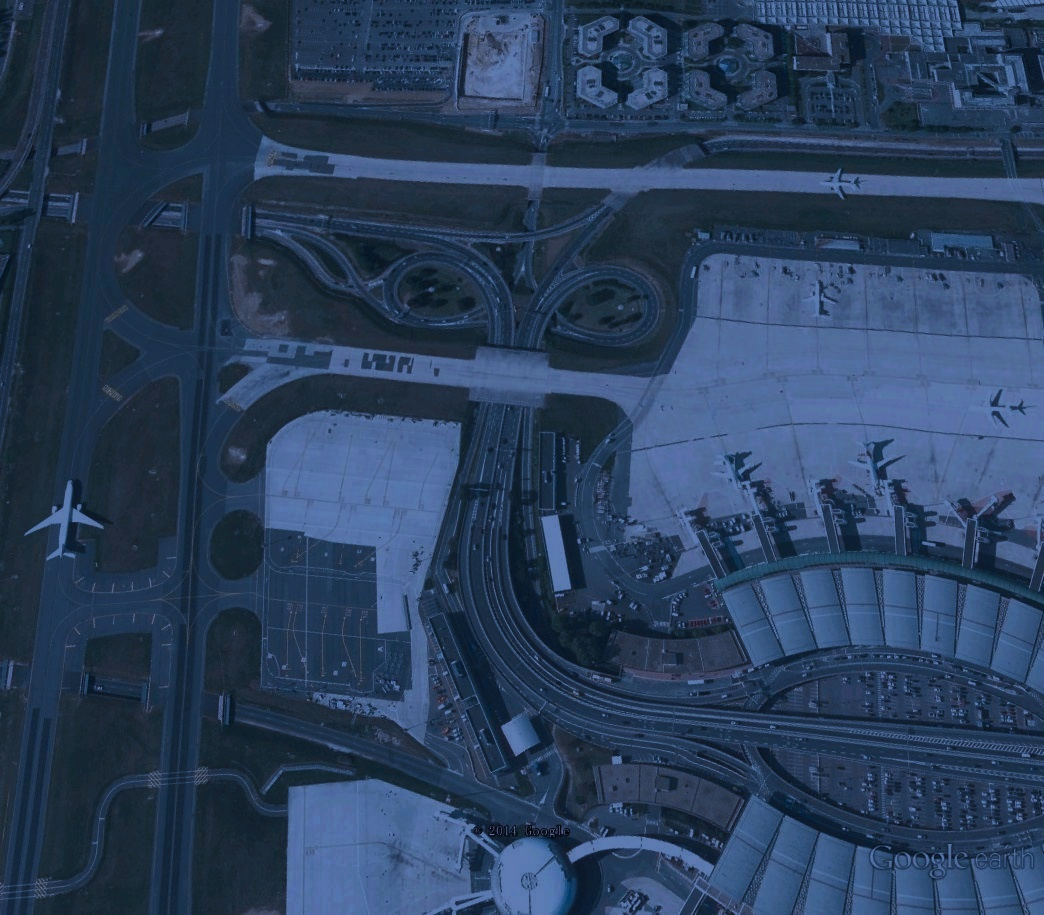aircraft: (18, 474, 109, 567), (838, 436, 906, 493), (964, 385, 1033, 439), (700, 447, 754, 498), (796, 277, 843, 327), (814, 166, 865, 205)
